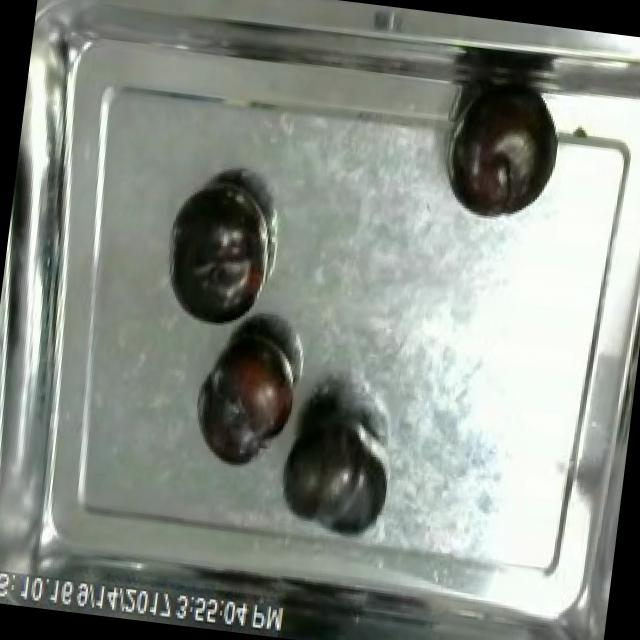Fruit: (154, 174, 276, 335), (441, 76, 566, 230), (188, 321, 306, 476), (272, 401, 399, 543)
